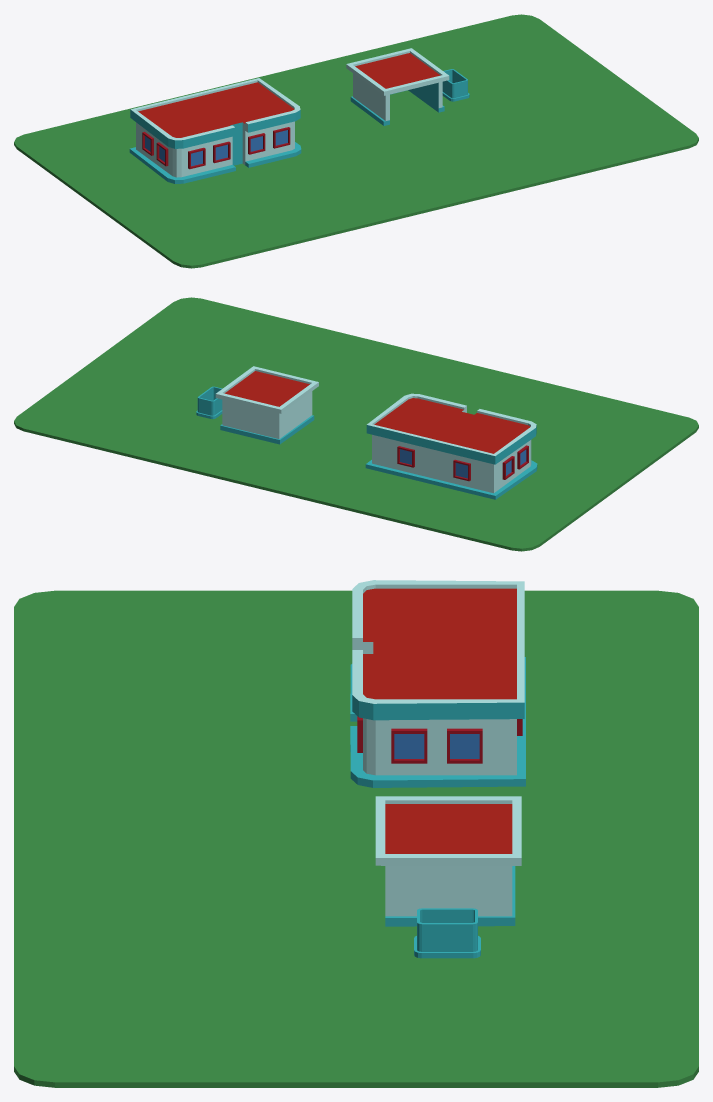
File: house_with_garage.fbx
3 views of the same model, one above another, from view 1: azimuth 30°, elevation 25°; view 2: azimuth 150°, elevation 25°; view 3: azimuth 270°, elevation 25° (orthographic). The views are drawn at different scales.
Visible parts, largest first — view 1: Plane.007, Cube.022, Cube.021, Cube.020; view 2: Plane.007, Cube.022, Cube.021, Cube.020; view 3: Plane.007, Cube.022, Cube.021, Cube.020, Cube.055, Cube.054.
Boxes of the visible parts, x1,y1,x2,y2 form: Plane.007: [14, 14, 698, 268]; Cube.022: [129, 78, 301, 183]; Cube.021: [346, 48, 449, 125]; Cube.020: [442, 69, 469, 101]; Plane.007: [14, 297, 698, 551]; Cube.022: [365, 393, 537, 499]; Cube.021: [215, 366, 318, 444]; Cube.020: [196, 386, 222, 419]; Plane.007: [14, 590, 698, 1087]; Cube.022: [350, 580, 525, 787]; Cube.021: [375, 796, 521, 926]; Cube.020: [414, 908, 480, 958]; Cube.055: [391, 728, 427, 763]; Cube.054: [447, 728, 482, 763].
Bounding box in the file's own units: 99.11 × 8.36 × 58.36.
